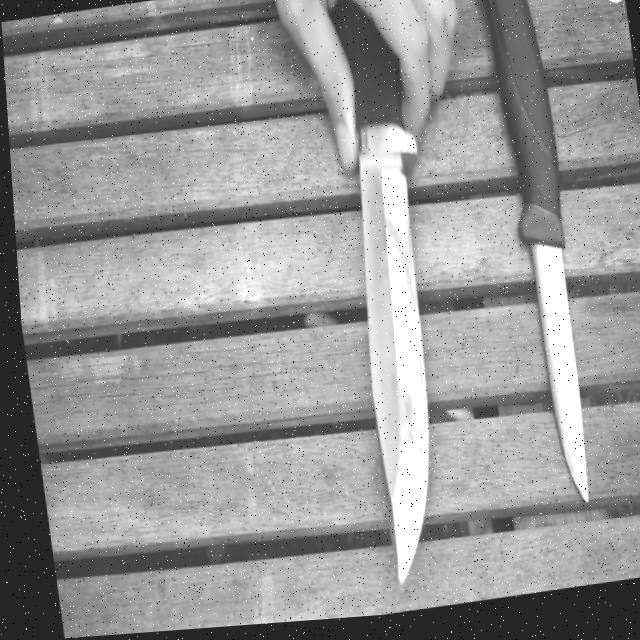knife: (301, 7, 466, 602), (472, 0, 598, 515)
